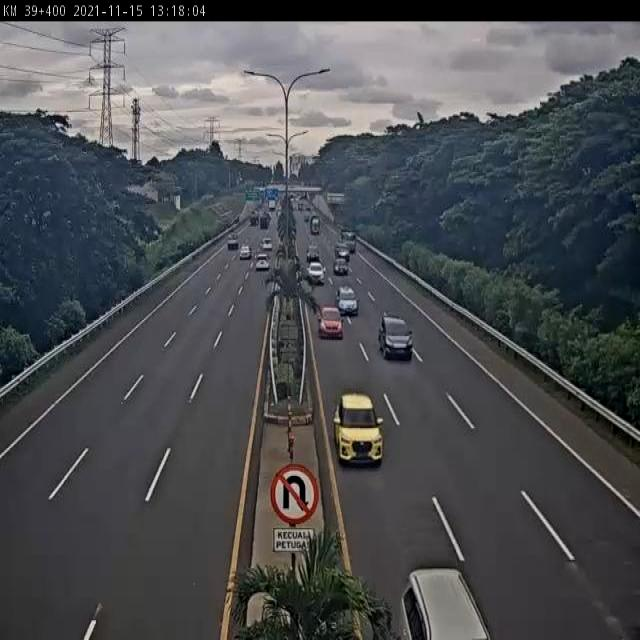Car: (399, 568, 490, 637), (333, 394, 385, 464), (378, 315, 414, 360), (317, 306, 343, 339), (336, 287, 359, 316), (307, 262, 325, 285), (255, 253, 269, 271), (334, 259, 348, 276), (227, 235, 239, 249), (262, 238, 273, 250), (240, 244, 250, 256)
